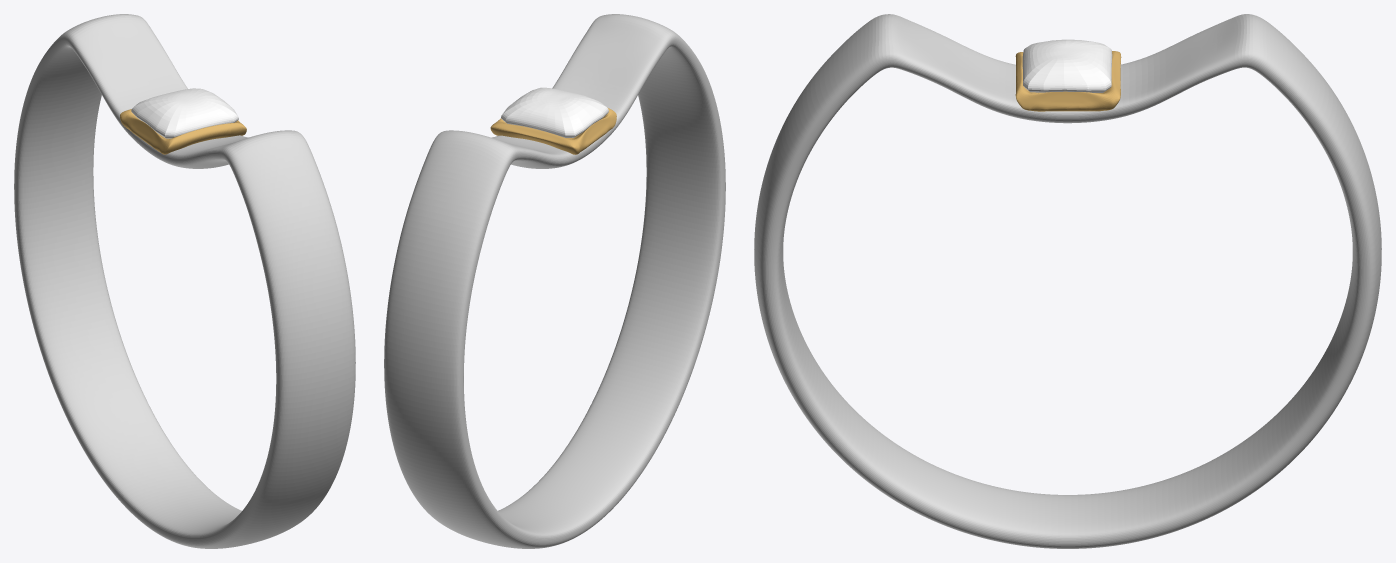
The model's file is ringVariation4.glb.
The picture shows the model from 3 angles, left to right: view 1: azimuth 30°, elevation 25°; view 2: azimuth 150°, elevation 25°; view 3: azimuth 270°, elevation 25°; orthographic projection. The views are drawn at different scales.
Parts seen in each view (by area): view 1: R7, R3, R6; view 2: R7, R3, R6; view 3: R7, R3, R6.
Part boxes in pixels (x1,y1,x2,y2): R7: [14, 14, 355, 548]; R3: [131, 88, 238, 138]; R6: [120, 109, 246, 154]; R7: [384, 14, 725, 548]; R3: [501, 87, 608, 137]; R6: [490, 108, 616, 154]; R7: [754, 14, 1381, 548]; R3: [1022, 39, 1112, 92]; R6: [1015, 51, 1121, 111].
Bounding box in the file's own units: 0.3508 × 1.71 × 1.91.
